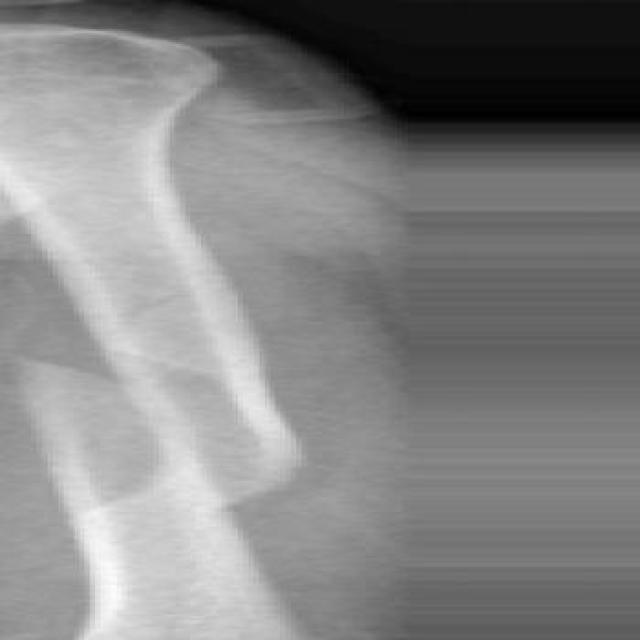Fracture: (23, 351, 196, 457), (97, 283, 250, 320)
